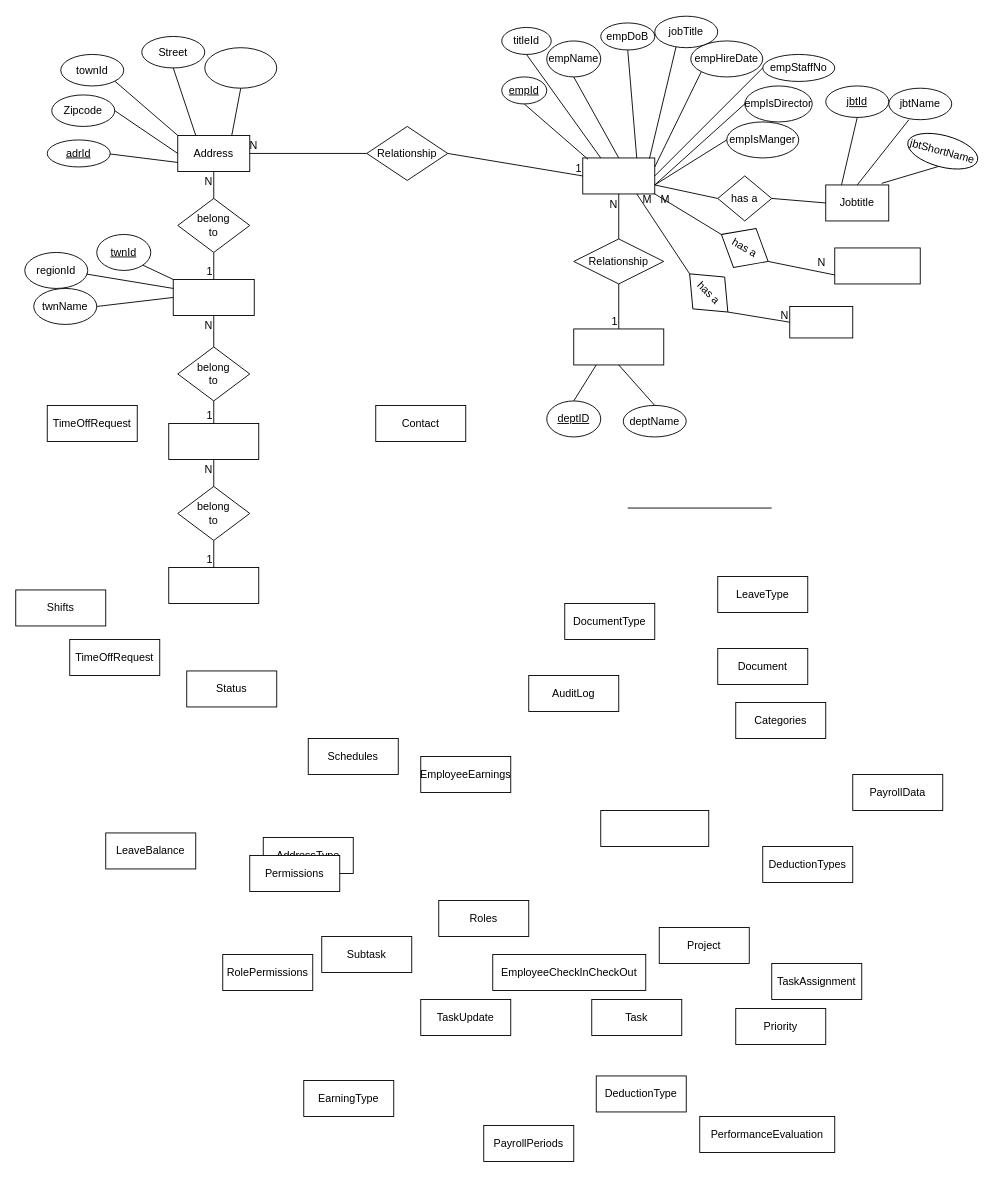
Some shapes in this 998 by 1177 pixel diagram are drawn without their labels. The box of each missing label's shape, as (x1, y1, x2, y2) in pixels:
addresTypeId: (204, 47, 277, 88)
Country: (168, 567, 259, 603)
Department: (573, 328, 664, 365)
Employee: (582, 157, 655, 194)
Employee Qualifications: (834, 247, 920, 284)
Employee Training: (789, 306, 853, 338)
EmployeeDeductions: (600, 810, 709, 846)
Region: (168, 423, 259, 459)
Town: (172, 279, 254, 315)
